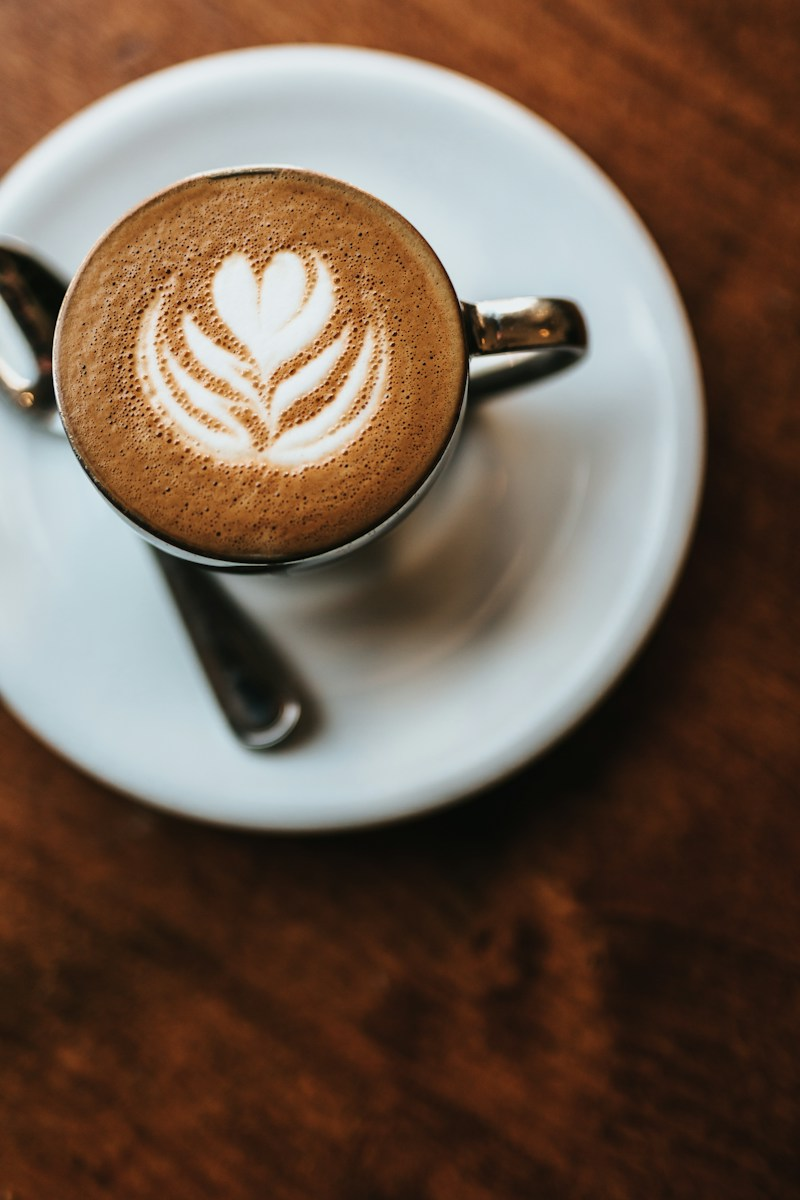cup: (52, 165, 589, 578)
